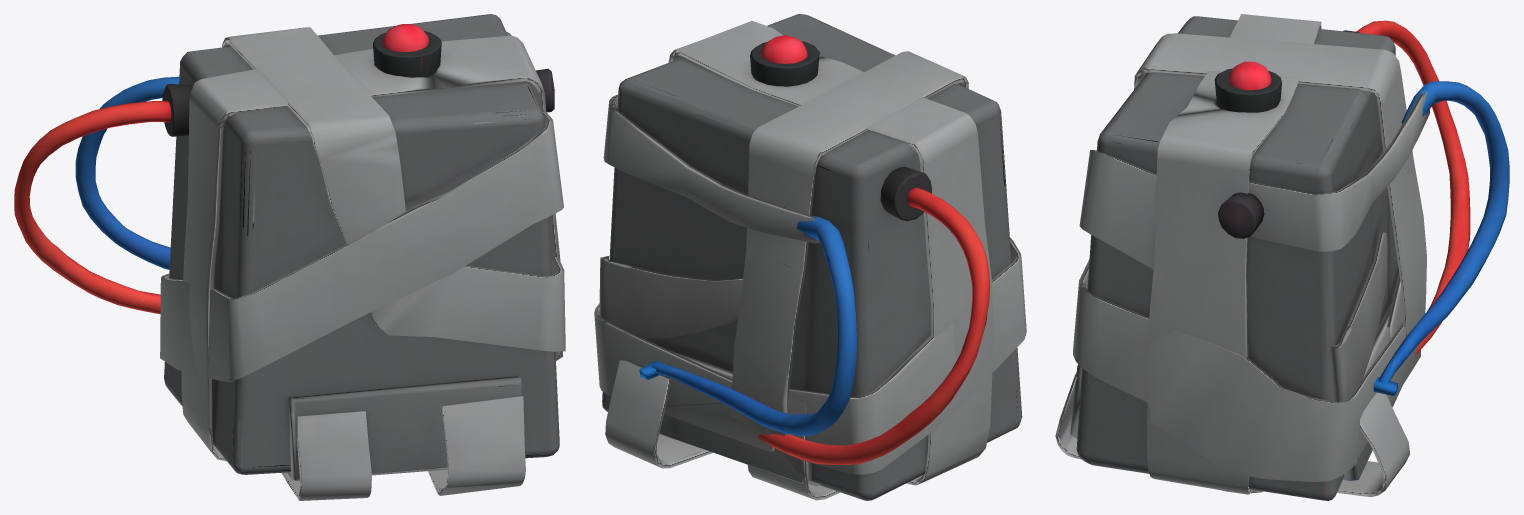
File: device.glb
The picture shows the model from 3 angles, left to right: view 1: azimuth 30°, elevation 25°; view 2: azimuth 150°, elevation 25°; view 3: azimuth 270°, elevation 25°; orthographic projection. The views are drawn at different scales.
Visible parts, largest first — view 1: geometry_0; view 2: geometry_0; view 3: geometry_0.
Boxes of the visible parts, bbox=[...] form: geometry_0: bbox=[14, 14, 565, 500]; geometry_0: bbox=[594, 14, 1026, 500]; geometry_0: bbox=[1055, 14, 1509, 500].
Size of the model in its own units: 0.9975 by 0.8778 by 0.913.
1 material, 1 textured.
